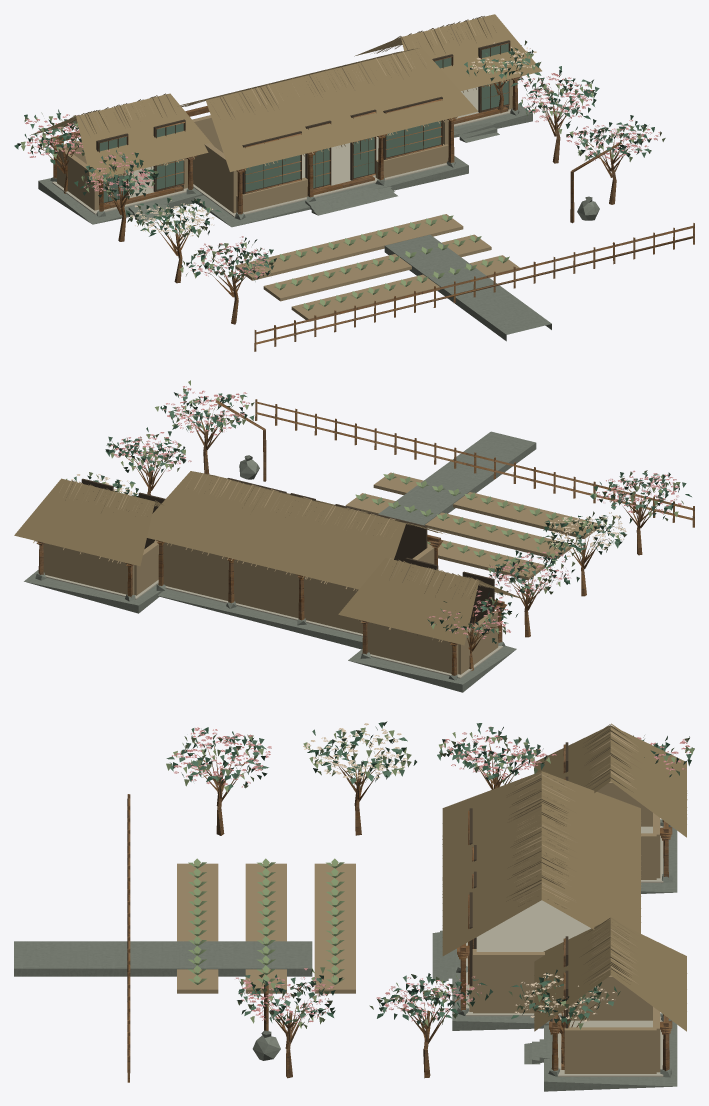
Rendered from daoxiangcun.glb.
3 renders of one model, top to bottom at view 1: azimuth 30°, elevation 25°; view 2: azimuth 150°, elevation 25°; view 3: azimuth 270°, elevation 25°, orthographic. The views are drawn at different scales.
Parts seen in each view (by area): view 1: daoxiangcun_thatch, daoxiangcun_clay, daoxiangcun_stone, daoxiangcun_wood, daoxiangcun_screen, daoxiangcun_lightleaf, daoxiangcun_flower, daoxiangcun_paving, daoxiangcun_leaf, daoxiangcun_leafdark, daoxiangcun_darkwood, daoxiangcun_creamflower; view 2: daoxiangcun_thatch, daoxiangcun_clay, daoxiangcun_stone, daoxiangcun_wood, daoxiangcun_lightleaf, daoxiangcun_flower, daoxiangcun_leaf, daoxiangcun_darkwood, daoxiangcun_leafdark, daoxiangcun_paving, daoxiangcun_creamflower; view 3: daoxiangcun_thatch, daoxiangcun_clay, daoxiangcun_stone, daoxiangcun_lightleaf, daoxiangcun_wood, daoxiangcun_paving, daoxiangcun_leaf, daoxiangcun_flower, daoxiangcun_leafdark, daoxiangcun_creamflower, daoxiangcun_darkwood.
Boxes of the visible parts, bbox=[...] form: daoxiangcun_thatch: bbox=[30, 14, 541, 180]; daoxiangcun_clay: bbox=[57, 16, 519, 321]; daoxiangcun_stone: bbox=[38, 103, 599, 341]; daoxiangcun_wood: bbox=[35, 42, 694, 351]; daoxiangcun_screen: bbox=[99, 43, 508, 202]; daoxiangcun_lightleaf: bbox=[21, 40, 665, 310]; daoxiangcun_flower: bbox=[25, 73, 660, 278]; daoxiangcun_paving: bbox=[52, 87, 511, 217]; daoxiangcun_leaf: bbox=[30, 50, 651, 278]; daoxiangcun_leafdark: bbox=[14, 48, 654, 281]; daoxiangcun_darkwood: bbox=[96, 40, 510, 204]; daoxiangcun_creamflower: bbox=[130, 42, 536, 239]; daoxiangcun_thatch: bbox=[14, 471, 525, 645]; daoxiangcun_clay: bbox=[33, 472, 600, 674]; daoxiangcun_stone: bbox=[24, 431, 536, 692]; daoxiangcun_wood: bbox=[35, 399, 694, 675]; daoxiangcun_lightleaf: bbox=[66, 380, 683, 635]; daoxiangcun_flower: bbox=[110, 386, 681, 639]; daoxiangcun_leaf: bbox=[74, 391, 686, 637]; daoxiangcun_darkwood: bbox=[81, 478, 494, 627]; daoxiangcun_leafdark: bbox=[87, 392, 691, 643]; daoxiangcun_paving: bbox=[45, 575, 503, 678]; daoxiangcun_creamflower: bbox=[71, 474, 626, 556]; daoxiangcun_thatch: bbox=[442, 723, 687, 1031]; daoxiangcun_clay: bbox=[177, 725, 687, 1073]; daoxiangcun_stone: bbox=[14, 819, 677, 1091]; daoxiangcun_lightleaf: bbox=[166, 727, 694, 1029]; daoxiangcun_wood: bbox=[127, 742, 672, 1082]; daoxiangcun_paving: bbox=[466, 826, 663, 1076]; daoxiangcun_leaf: bbox=[166, 721, 694, 1024]; daoxiangcun_flower: bbox=[172, 726, 690, 1025]; daoxiangcun_leafdark: bbox=[170, 722, 691, 1024]; daoxiangcun_creamflower: bbox=[303, 723, 616, 1021]; daoxiangcun_darkwood: bbox=[469, 742, 568, 1028].
Size of the model in its own units: 30.58 by 6.21 by 29.67.
Materials: 12 (2 with a texture image).
